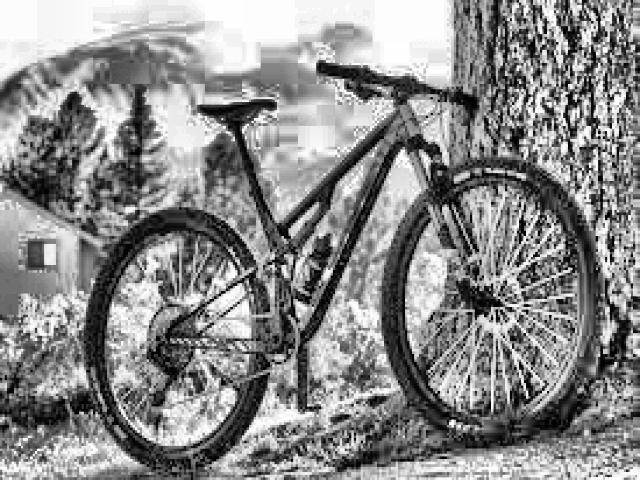cranks_set: (260, 274, 302, 370)
rear_derailleur: (144, 341, 183, 408)
saddle: (196, 98, 281, 126)
wheel: (382, 158, 602, 444), (76, 205, 274, 471)
